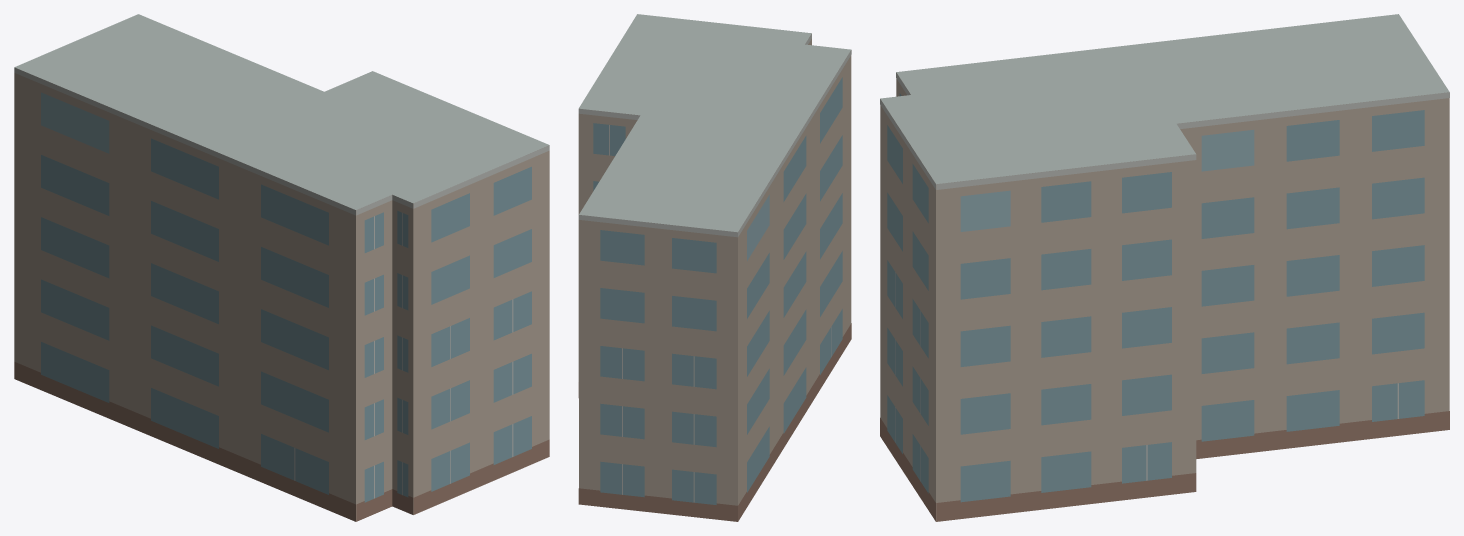
The model's file is survey-upis-32994071.glb.
3 views of the same model, side by side, from view 1: azimuth 30°, elevation 25°; view 2: azimuth 150°, elevation 25°; view 3: azimuth 270°, elevation 25° (orthographic). The views are drawn at different scales.
Visible parts, largest first — view 1: survey-upis-32994071.tmp; view 2: survey-upis-32994071.tmp; view 3: survey-upis-32994071.tmp.
Boxes of the visible parts, <box> form: survey-upis-32994071.tmp: <box>14,14,549,521</box>; survey-upis-32994071.tmp: <box>578,14,851,521</box>; survey-upis-32994071.tmp: <box>880,14,1449,521</box>.
Size of the model in its own units: 15.14 by 14 by 21.41.
